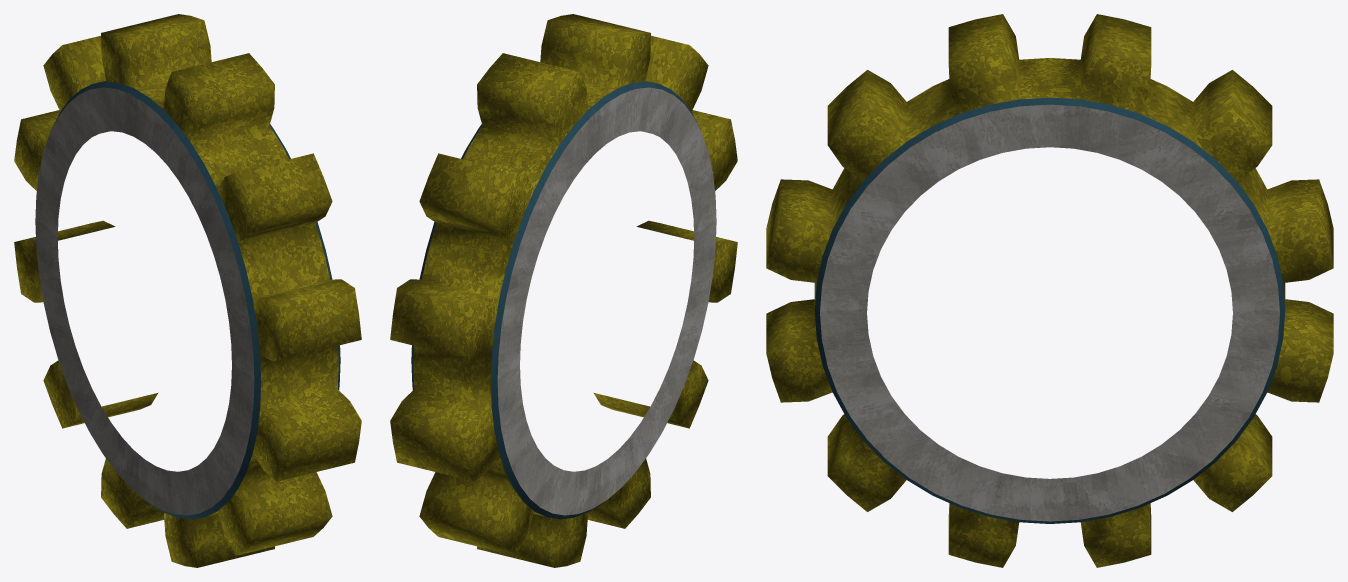
The model's file is cocoa_shredder.glb.
3 renders of one model, left to right at view 1: azimuth 30°, elevation 25°; view 2: azimuth 150°, elevation 25°; view 3: azimuth 270°, elevation 25°, orthographic. The views are drawn at different scales.
Parts seen in each view (by area): view 1: stk_goldMetal_a.png__, stktex_generic_concreteA.png__, stk_blueMetal_a.png__; view 2: stk_goldMetal_a.png__, stktex_generic_concreteA.png__, stk_blueMetal_a.png__; view 3: stk_goldMetal_a.png__, stktex_generic_concreteA.png__, stk_blueMetal_a.png__.
Part boxes in pixels (x1,y1,x2,y2): stk_goldMetal_a.png__: (14, 14, 361, 567); stktex_generic_concreteA.png__: (35, 87, 254, 515); stk_blueMetal_a.png__: (50, 81, 340, 519); stk_goldMetal_a.png__: (390, 14, 737, 567); stktex_generic_concreteA.png__: (497, 87, 716, 515); stk_blueMetal_a.png__: (411, 81, 701, 519); stk_goldMetal_a.png__: (766, 14, 1333, 567); stktex_generic_concreteA.png__: (820, 104, 1279, 521); stk_blueMetal_a.png__: (814, 97, 1285, 523).
Bounding box in the file's own units: 6.92 × 37.53 × 37.53.
Materials: 3 (3 with a texture image).
